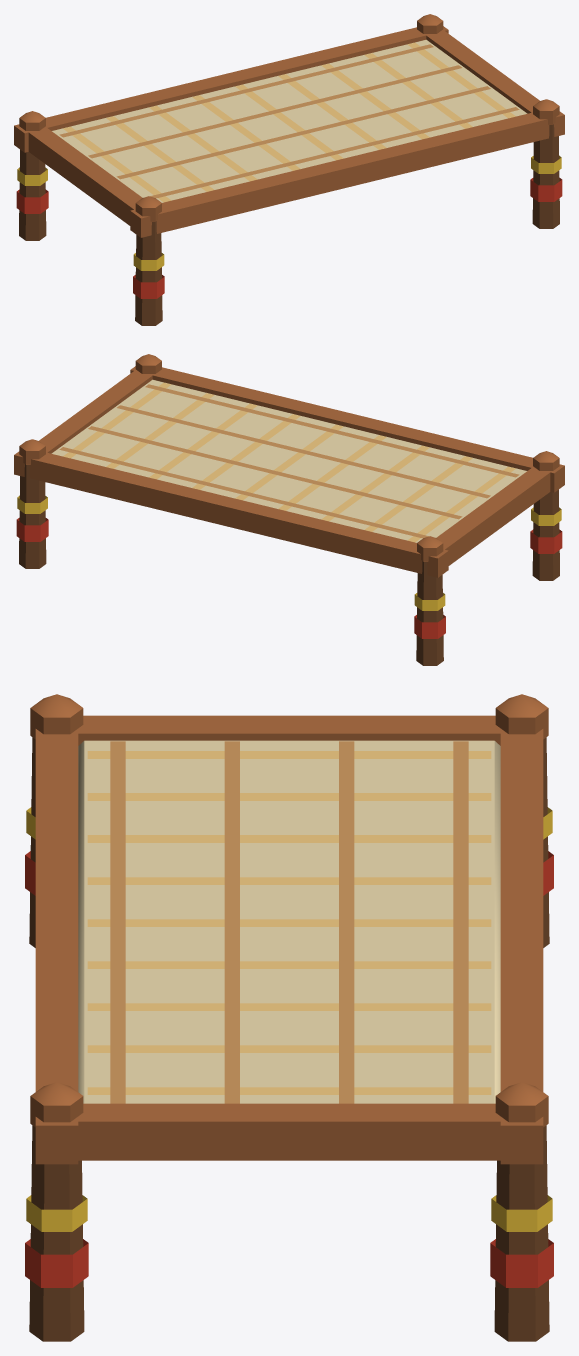
Rendered from charpai.glb.
3 views of the same model, one above another, from view 1: azimuth 30°, elevation 25°; view 2: azimuth 150°, elevation 25°; view 3: azimuth 270°, elevation 25° (orthographic). The views are drawn at different scales.
Visible parts, largest first — view 1: charpai; view 2: charpai; view 3: charpai.
Boxes of the visible parts, <box> form: charpai: <box>14,14,564,325</box>; charpai: <box>14,354,564,665</box>; charpai: <box>25,694,553,1341</box>.
Size of the model in its own units: 1.6 by 0.45 by 0.864.
Materials: 1 (1 with a texture image).
